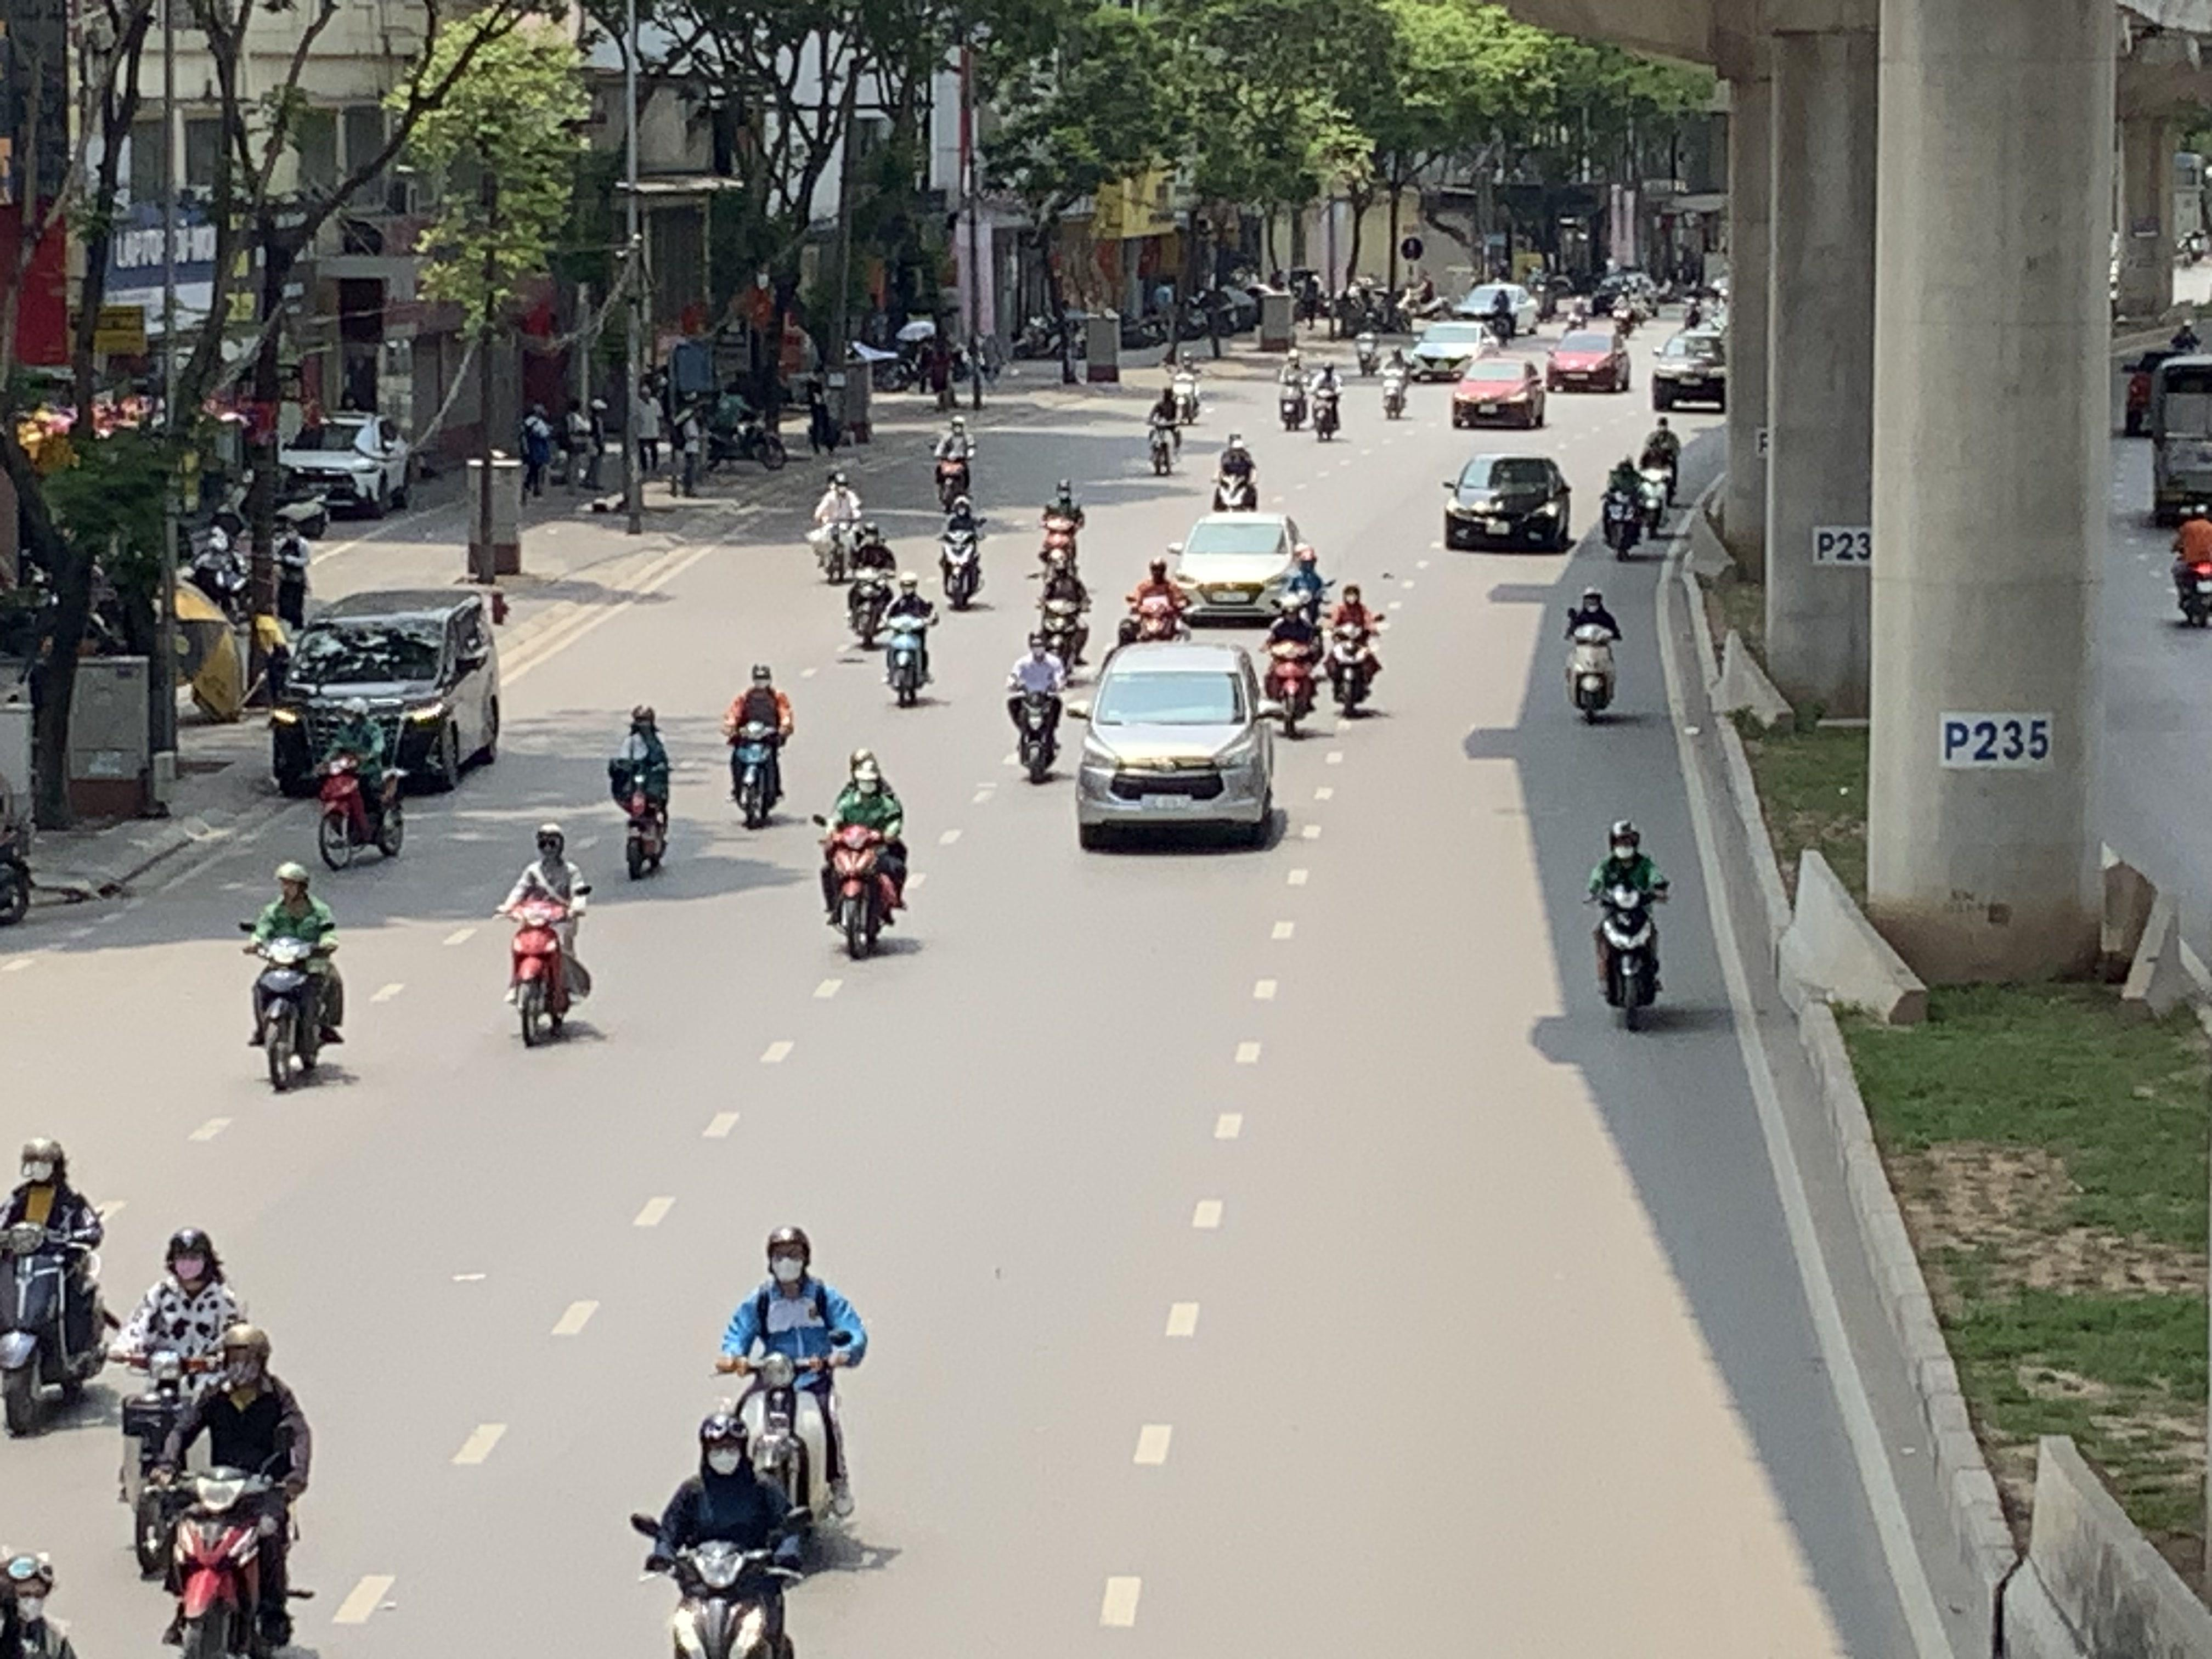car: (277, 584, 500, 795), (1069, 638, 1284, 852), (1169, 511, 1313, 622), (280, 413, 413, 519), (1442, 451, 1575, 552), (1449, 356, 1548, 429), (1651, 328, 1728, 411), (1406, 321, 1498, 383), (1545, 326, 1632, 392)
motorbike: (152, 1321, 315, 1659), (716, 1225, 866, 1554), (110, 1227, 244, 1574), (634, 1408, 808, 1659), (0, 1136, 113, 1439), (242, 861, 345, 1093), (815, 749, 909, 962), (502, 824, 590, 1049), (1587, 819, 1669, 1033), (315, 711, 408, 870), (723, 662, 794, 830), (610, 704, 674, 880), (1005, 629, 1069, 784), (1261, 592, 1324, 737), (878, 573, 939, 709), (1562, 586, 1622, 725), (1325, 582, 1385, 716), (841, 521, 900, 650), (705, 383, 789, 472), (1033, 552, 1094, 673), (1120, 554, 1191, 647), (808, 471, 864, 584), (937, 491, 989, 610), (0, 769, 35, 931), (1635, 415, 1683, 533), (1599, 455, 1649, 561), (2170, 500, 2212, 627), (1036, 479, 1087, 579), (932, 415, 977, 507), (1211, 432, 1261, 512), (1144, 385, 1184, 476), (1308, 359, 1345, 441), (1167, 354, 1205, 427), (1275, 352, 1310, 432), (1378, 345, 1413, 420)
